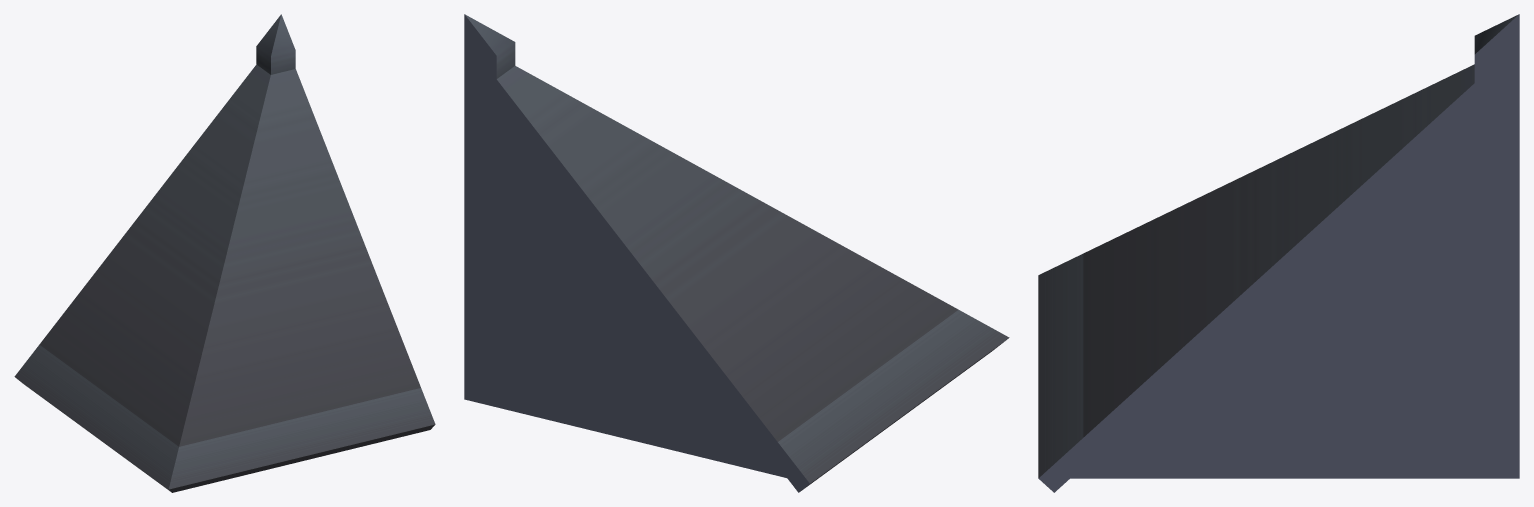
Rendered from roof-high-corner.glb.
3 views of the same model, side by side, from view 1: azimuth 30°, elevation 25°; view 2: azimuth 150°, elevation 25°; view 3: azimuth 270°, elevation 25° (orthographic). The views are drawn at different scales.
Parts seen in each view (by area): view 1: roof-high-corner; view 2: roof-high-corner; view 3: roof-high-corner.
Boxes of the visible parts, x1,y1,x2,y2 form: roof-high-corner: (14,14,435,492); roof-high-corner: (464,14,1009,492); roof-high-corner: (1038,14,1519,492).
Bounding box in the file's own units: 1.07 × 1.18 × 1.07.
Materials: 1 (1 with a texture image).
